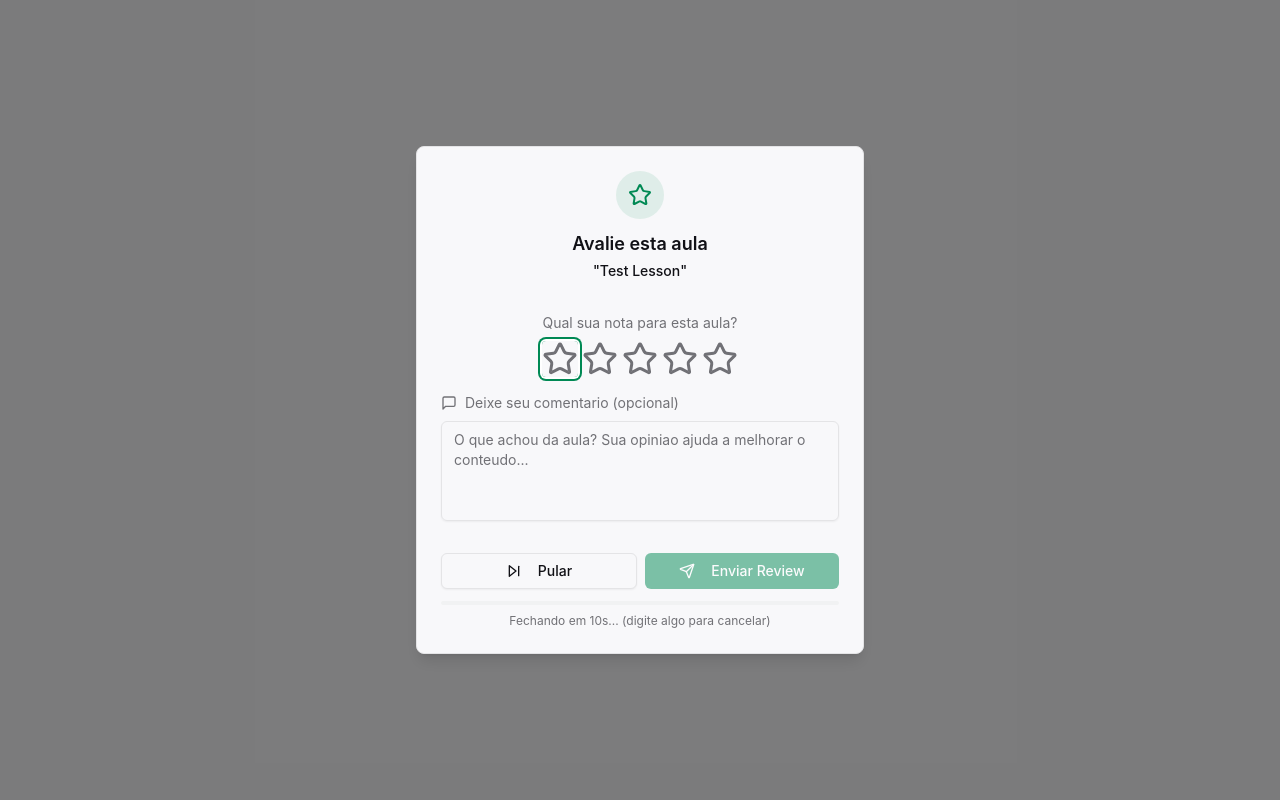
Test: LessonReviewOverlay › should enable submit button when rating is selected
Note: Select 4 stars
Click the button named "Dar 4 estrelas": (680, 359) [662,341,698,377]
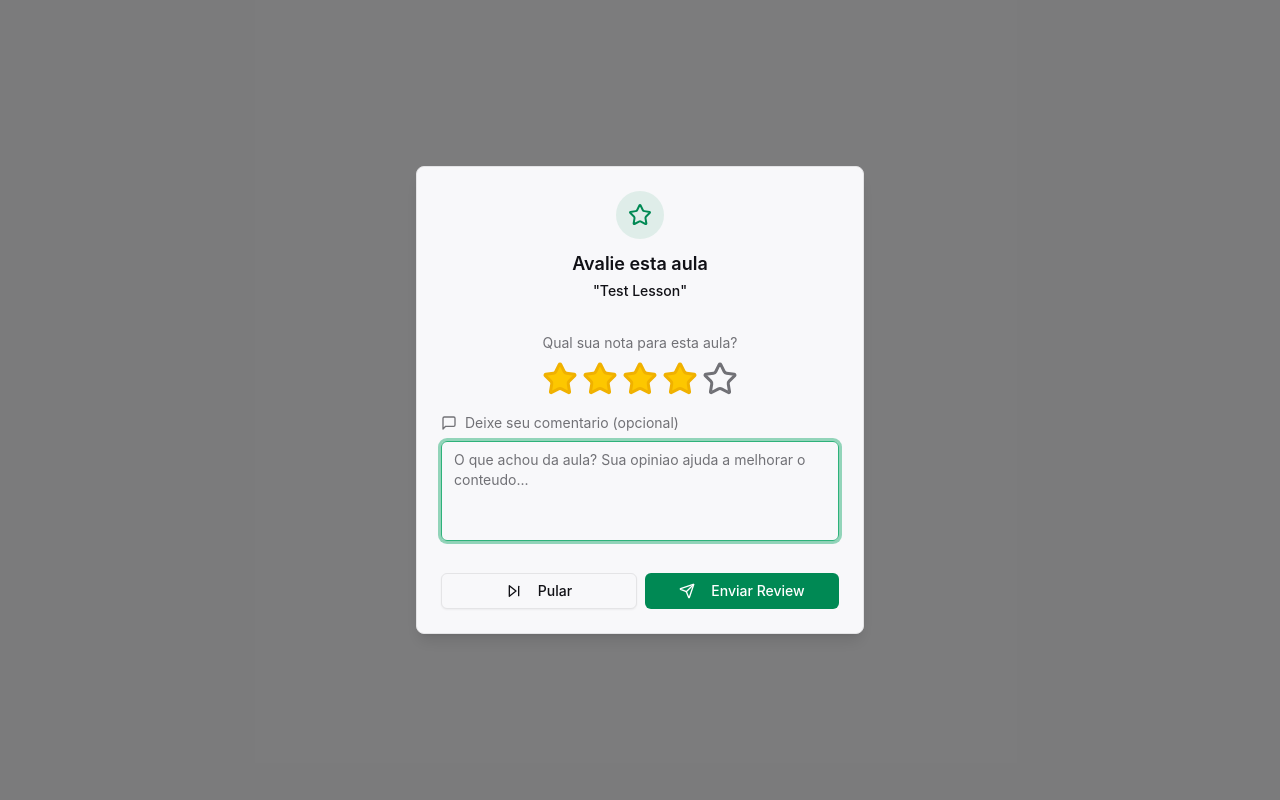
expect the button "Enviar Review" is enabled: met, box [645,573,839,609]
